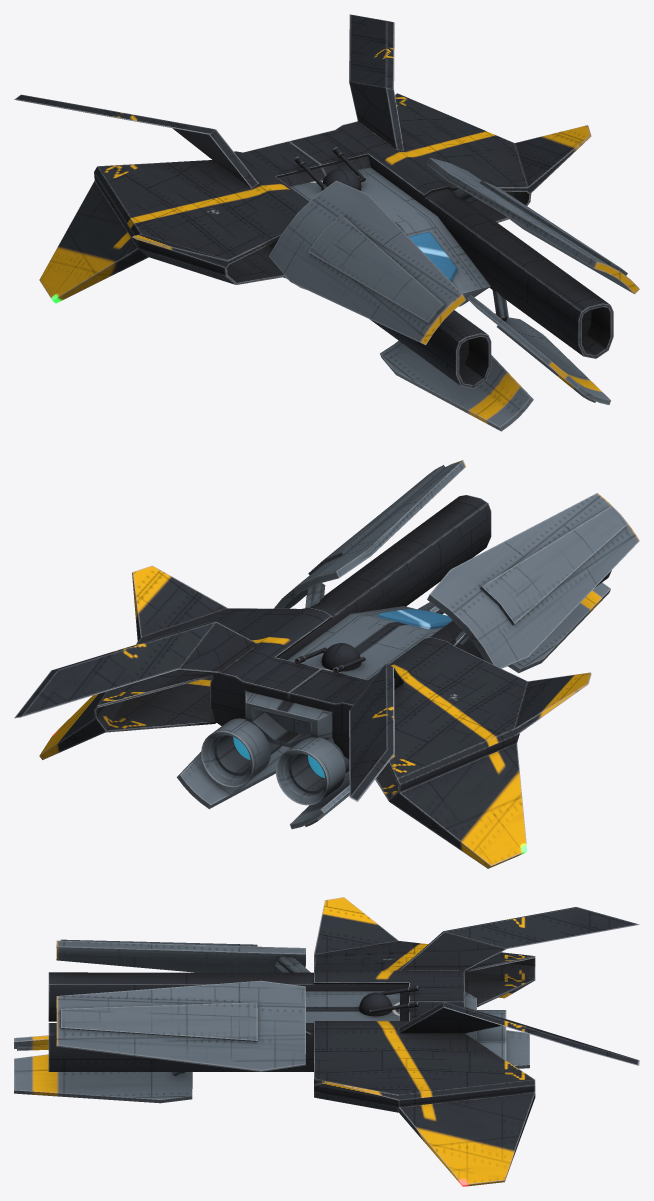
Rendered from Ostirion.glb.
3 views of the same model, one above another, from view 1: azimuth 30°, elevation 25°; view 2: azimuth 150°, elevation 25°; view 3: azimuth 270°, elevation 25° (orthographic). The views are drawn at different scales.
Parts seen in each view (by area): view 1: Куб.016; view 2: Куб.016; view 3: Куб.016.
Part boxes in pixels (x1=…): Куб.016: x1=14, y1=14, x2=639, y2=431; Куб.016: x1=14, y1=460, x2=639, y2=868; Куб.016: x1=14, y1=897, x2=639, y2=1186.
Size of the model in its own units: 0.637 by 0.1919 by 0.8605.
4 materials, 4 textured.
